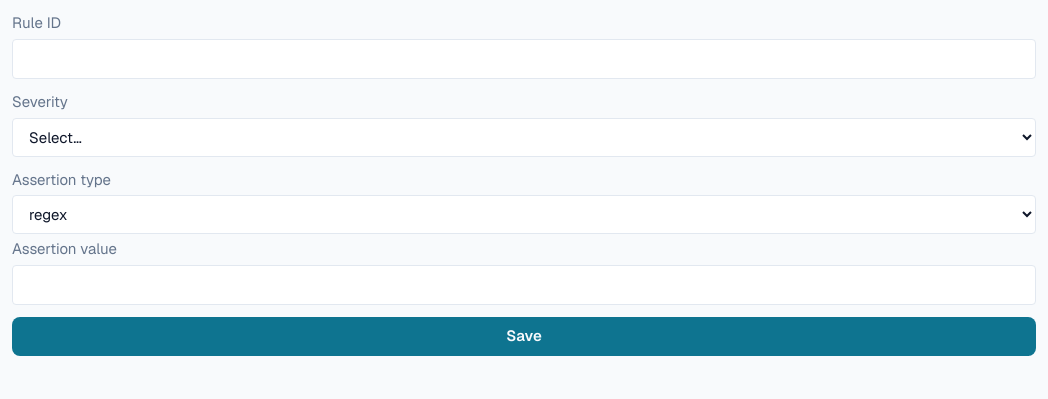
Test: VoiceRuleForm › shows a generic error (not silent, not false-success) on a 500 with an empty body
In the field labelled "Rule ID": point(524, 59) top-left (12, 38), bottom-right (1036, 79), type "no-jargon"
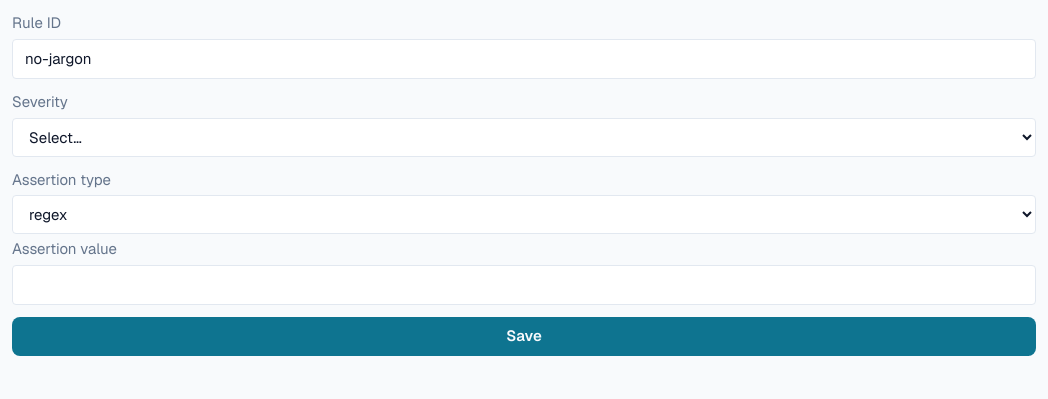
Select "Critical" in the dropdown labelled "Severity": point(524, 137) top-left (12, 118), bottom-right (1036, 156)
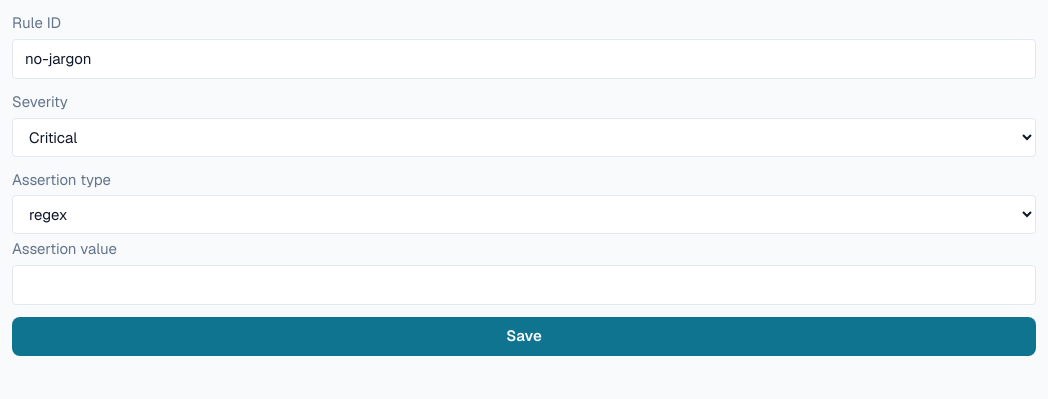
Select "forbidden-term" in the dropdown labelled "Assertion type": point(524, 214) top-left (12, 195), bottom-right (1036, 234)
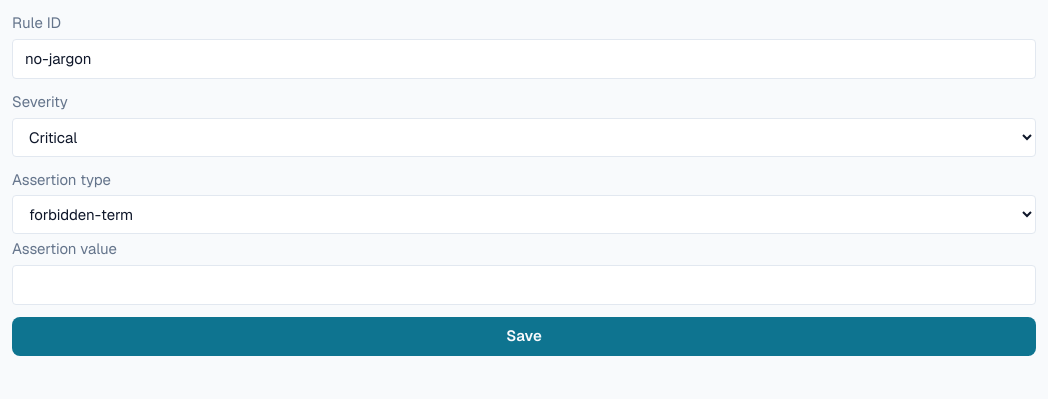
In the field labelled "Assertion value": point(524, 285) top-left (12, 264), bottom-right (1036, 305), type "synergy"
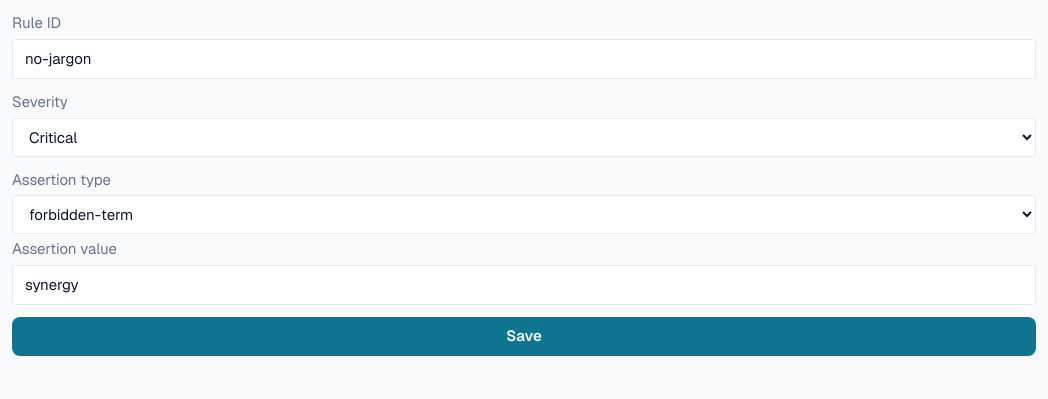
Click the button "Save": point(524, 336) top-left (12, 317), bottom-right (1036, 356)
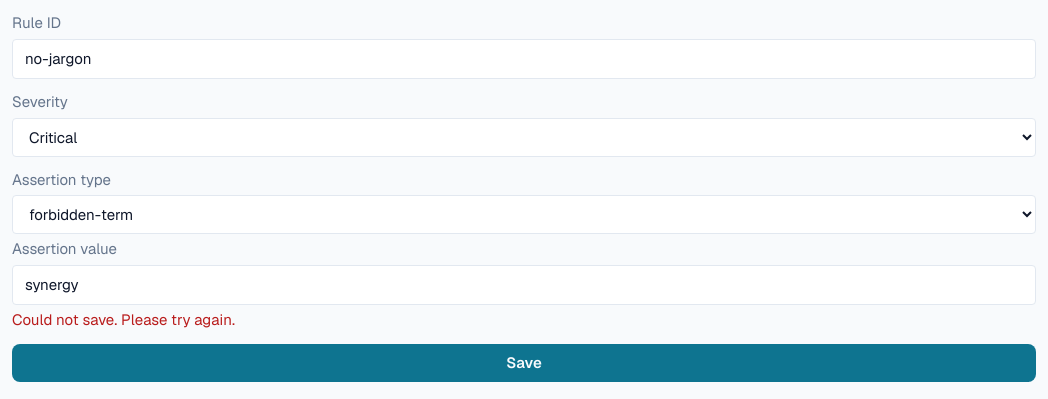
Expected: the button "Save" is enabled, top-left (12, 344), bottom-right (1036, 382)
Result: the text "Could not save. Please try again." is shown at top-left (12, 310), bottom-right (235, 329)
